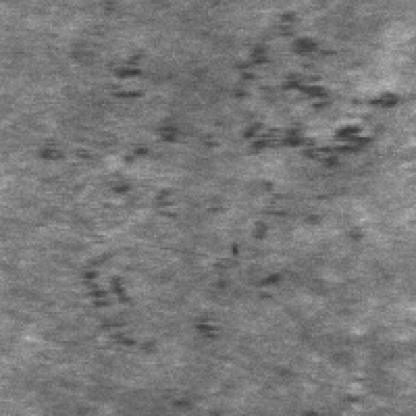rolled-in_scale: (66, 44, 199, 362), (231, 4, 410, 162), (185, 235, 327, 341)
